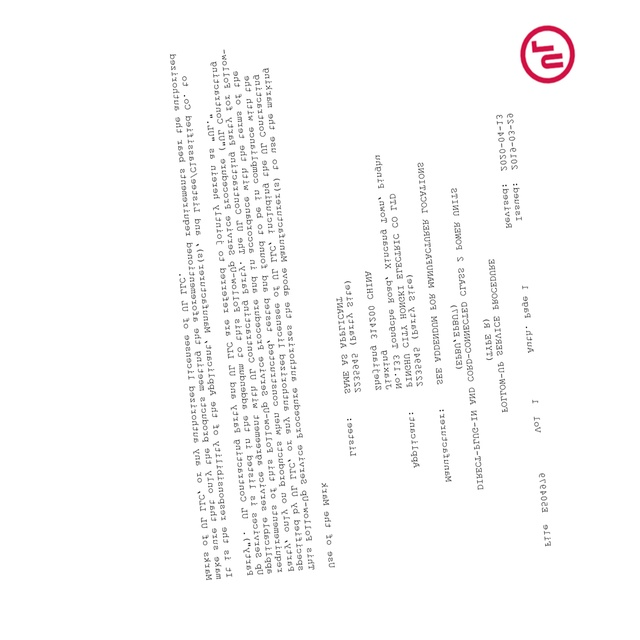ul: (521, 24, 576, 83)
